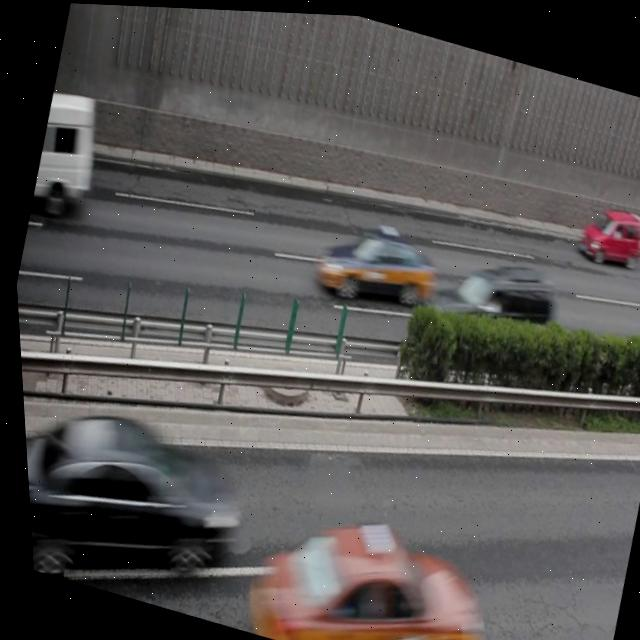car: (18, 390, 248, 621), (225, 484, 488, 640), (305, 210, 439, 318), (570, 194, 640, 267)
truck: (411, 236, 562, 370)
